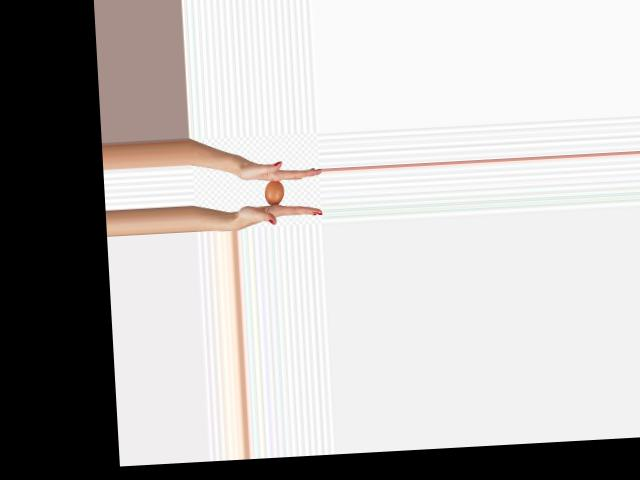egg: (263, 179, 283, 204)
